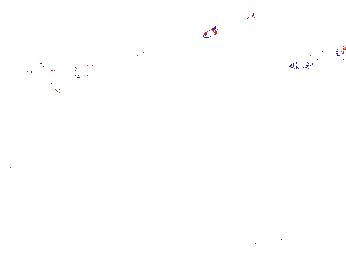red belly glassfish: (243, 10, 270, 25), (193, 26, 218, 42)
redtail glassfish: (99, 42, 161, 73), (23, 61, 91, 85), (288, 45, 346, 72)
siberian prawn: (1, 237, 111, 260)
